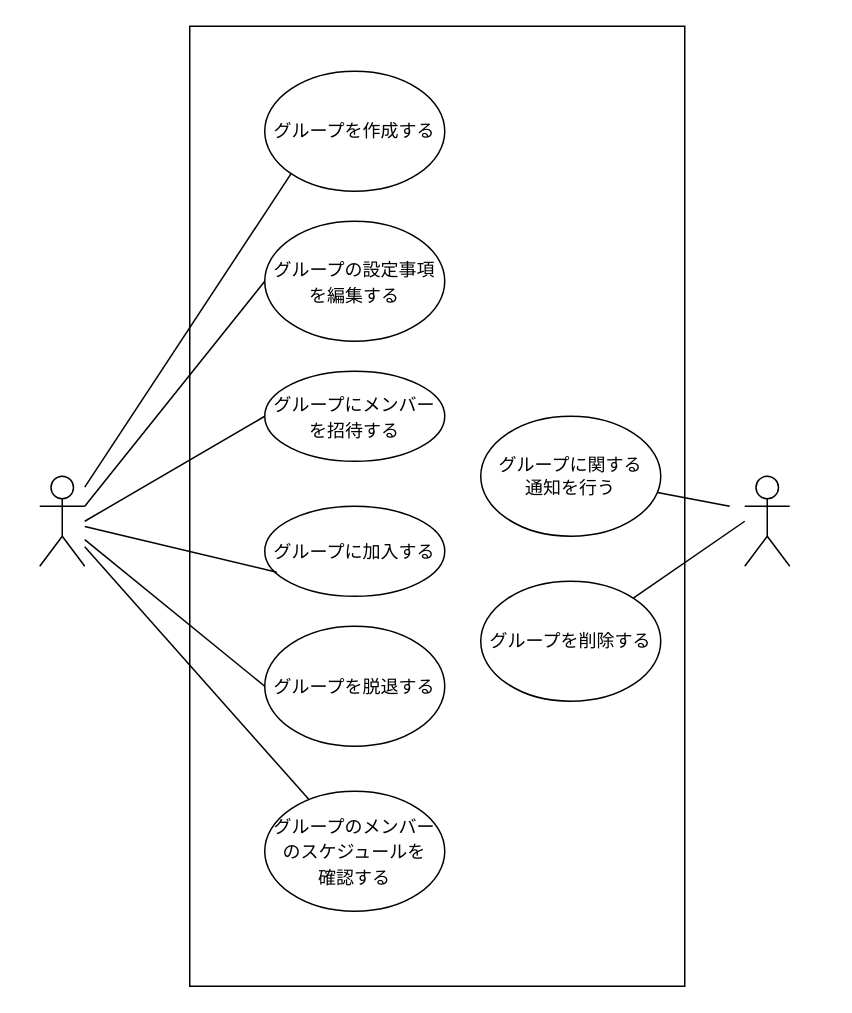
The diagram is 852 pixels wide and 1013 high, and some of its shapes have lost their labels. Each missing label, with the box of its shape:
cloud functions: (743, 475, 790, 566)
ユーザー: (38, 475, 85, 566)
